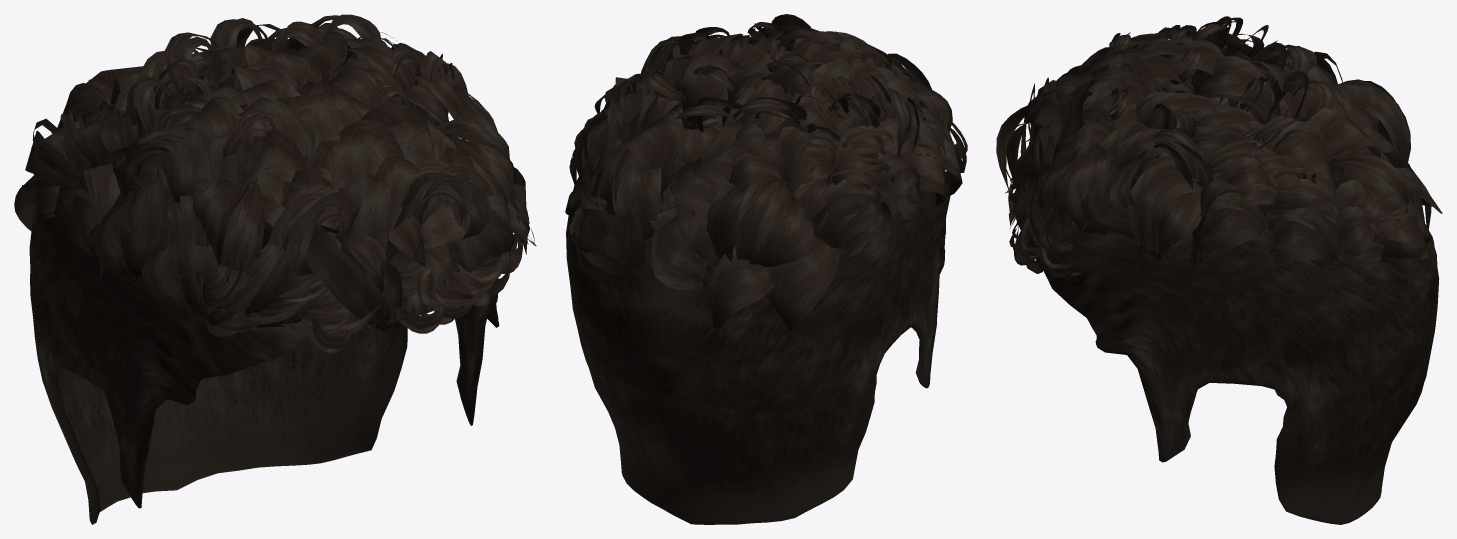
File: diamond_wavy_01 FrenchCrop.glb
3 views of the same model, side by side, from view 1: azimuth 30°, elevation 25°; view 2: azimuth 150°, elevation 25°; view 3: azimuth 270°, elevation 25° (orthographic). The views are drawn at different scales.
Parts seen in each view (by area): view 1: FRINGE.004, SCALP_NEW; view 2: FRINGE.004, SCALP_NEW; view 3: FRINGE.004, SCALP_NEW.
Boxes of the visible parts, x1,y1,x2,y2 form: FRINGE.004: (14,14,536,353); SCALP_NEW: (29,112,499,524); FRINGE.004: (565,14,967,330); SCALP_NEW: (566,101,950,524); FRINGE.004: (996,16,1442,286); SCALP_NEW: (1036,97,1439,524).
Bounding box in the file's own units: 0.1948 × 0.2371 × 0.2188.
Materials: 2 (2 with a texture image).
